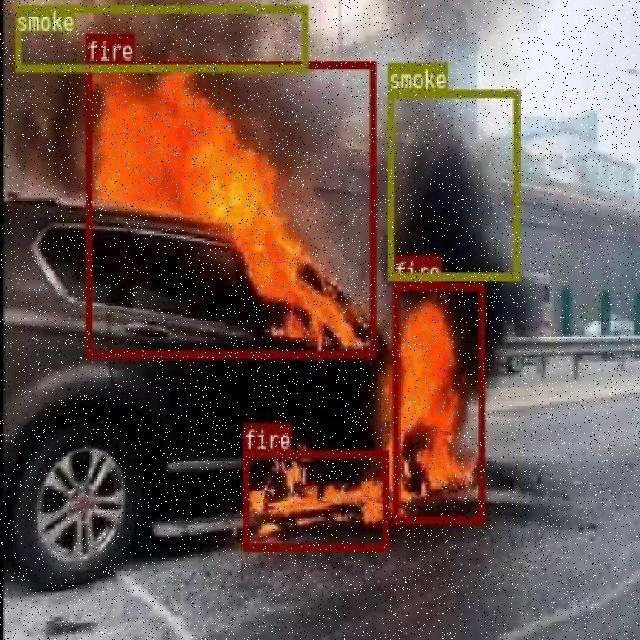Smoke: (0, 4, 242, 70), (419, 58, 486, 182)
